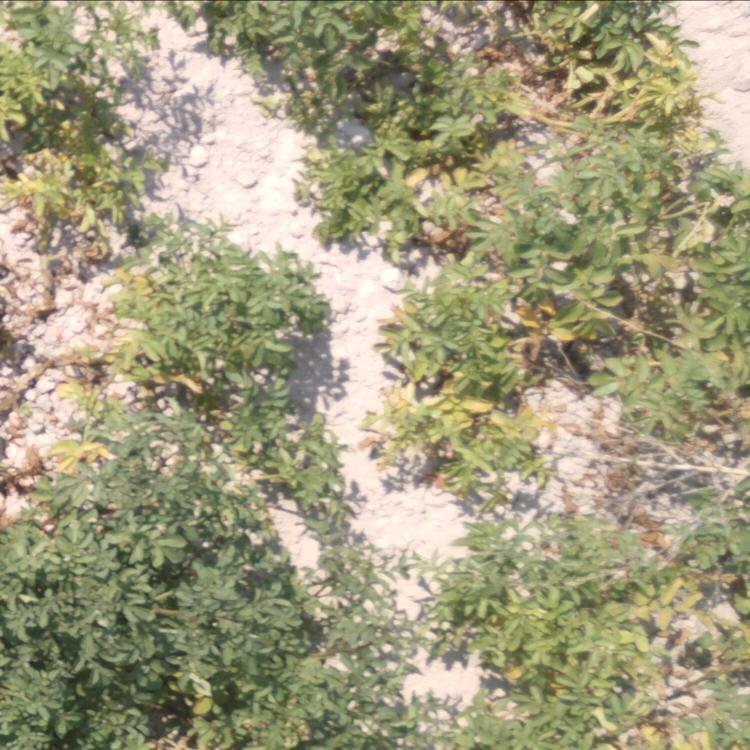healthy: (179, 442, 361, 655), (8, 502, 170, 741), (313, 664, 434, 745)
stressed: (372, 250, 748, 474), (297, 85, 750, 246), (445, 523, 750, 746), (189, 1, 696, 85), (1, 1, 138, 239), (147, 244, 305, 432), (56, 266, 159, 496), (179, 664, 303, 750)
